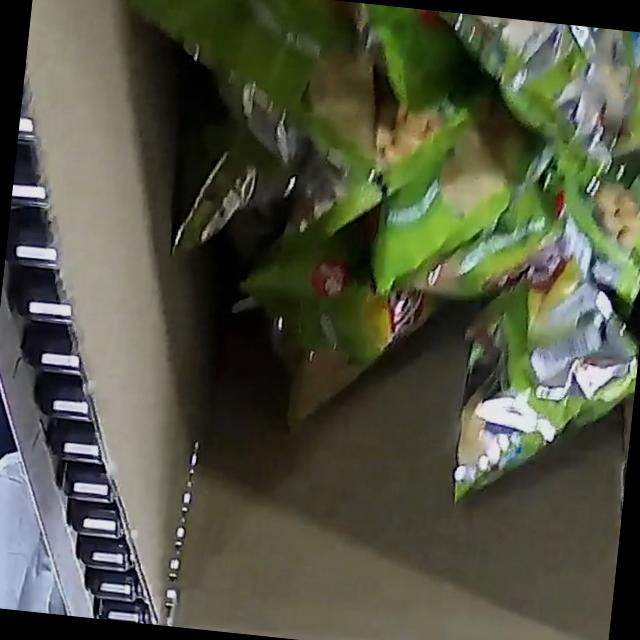yogurt: (75, 0, 640, 524)
